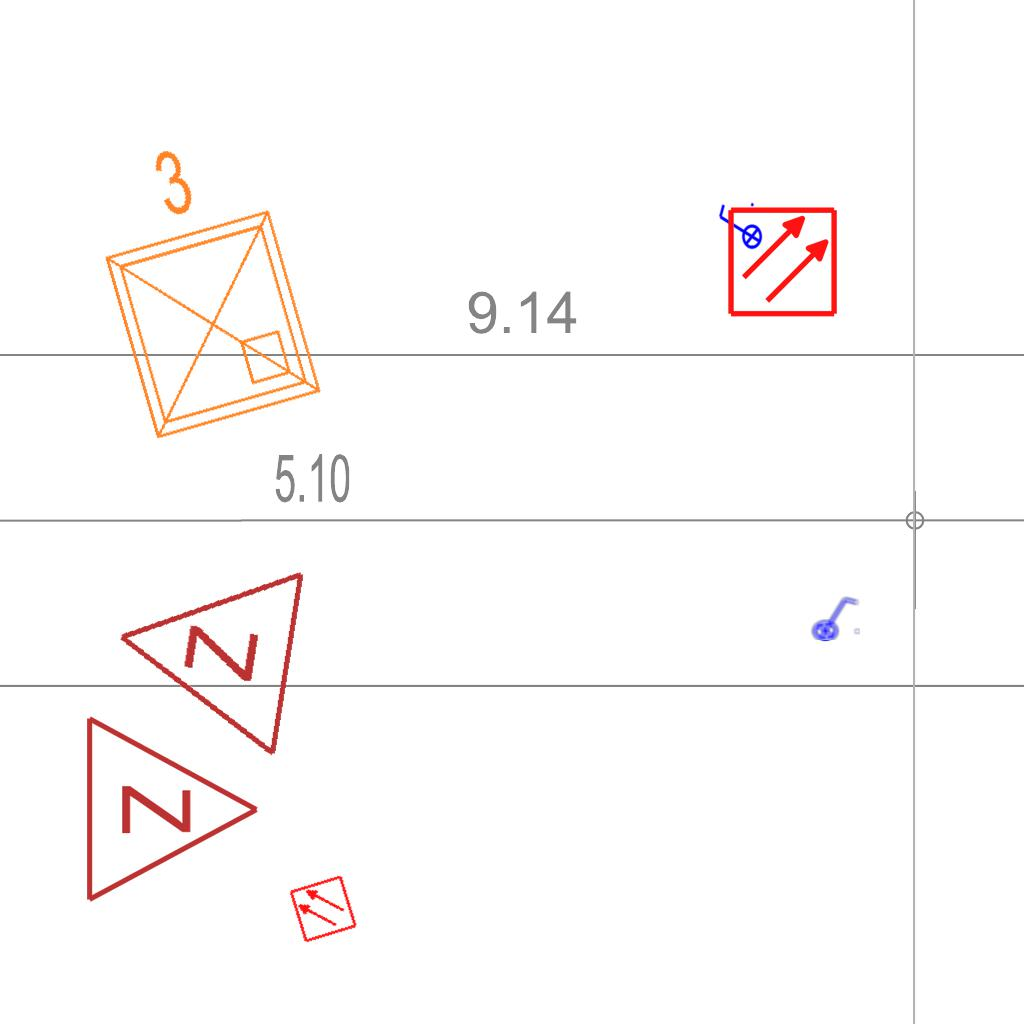Ausschalter_beleuchtet: (715, 200, 763, 256), (806, 594, 862, 642)
Einbaudownlights_LED_Konferenzraeume: (56, 113, 340, 459)
RMO_Rauchmelder_optischer: (726, 205, 839, 318), (288, 874, 358, 944)
Zimmersignalleuchte: (90, 540, 320, 766), (72, 709, 272, 905)
